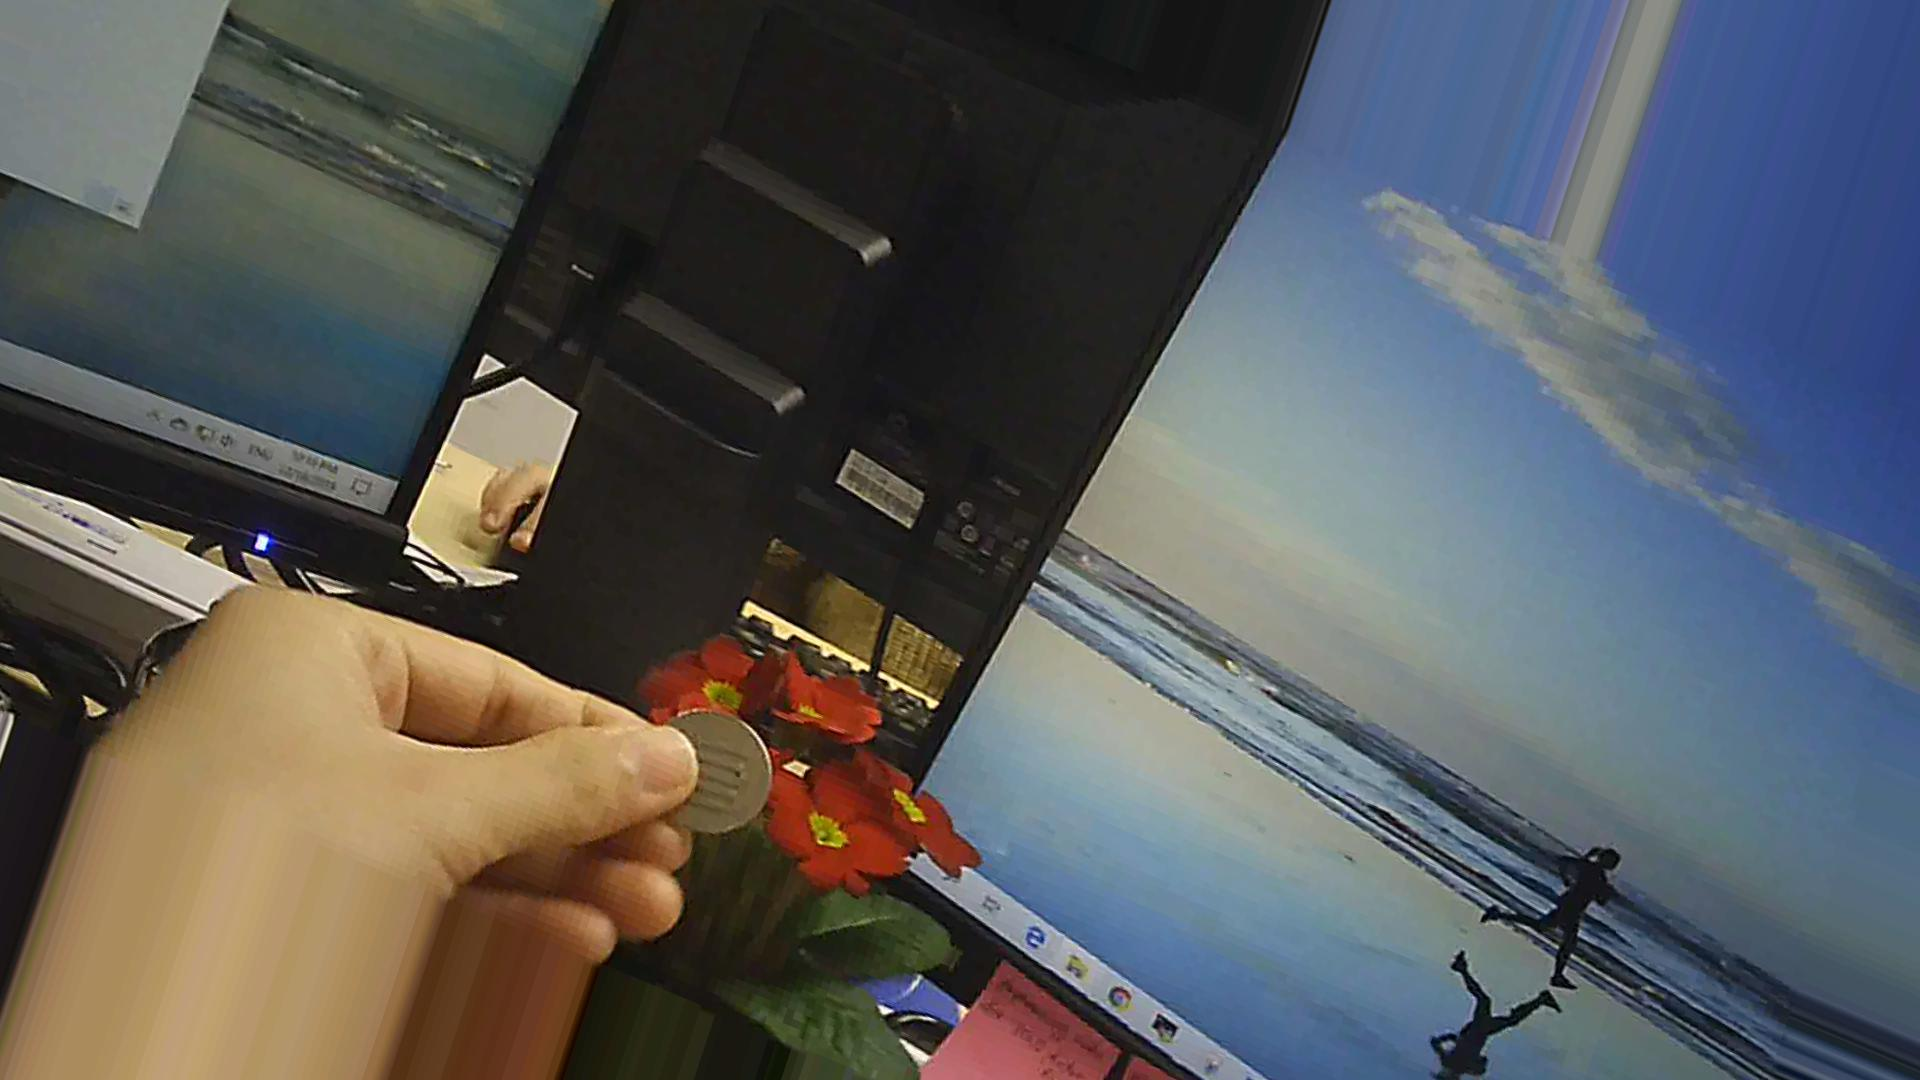100 Yen: (644, 703, 783, 844)
